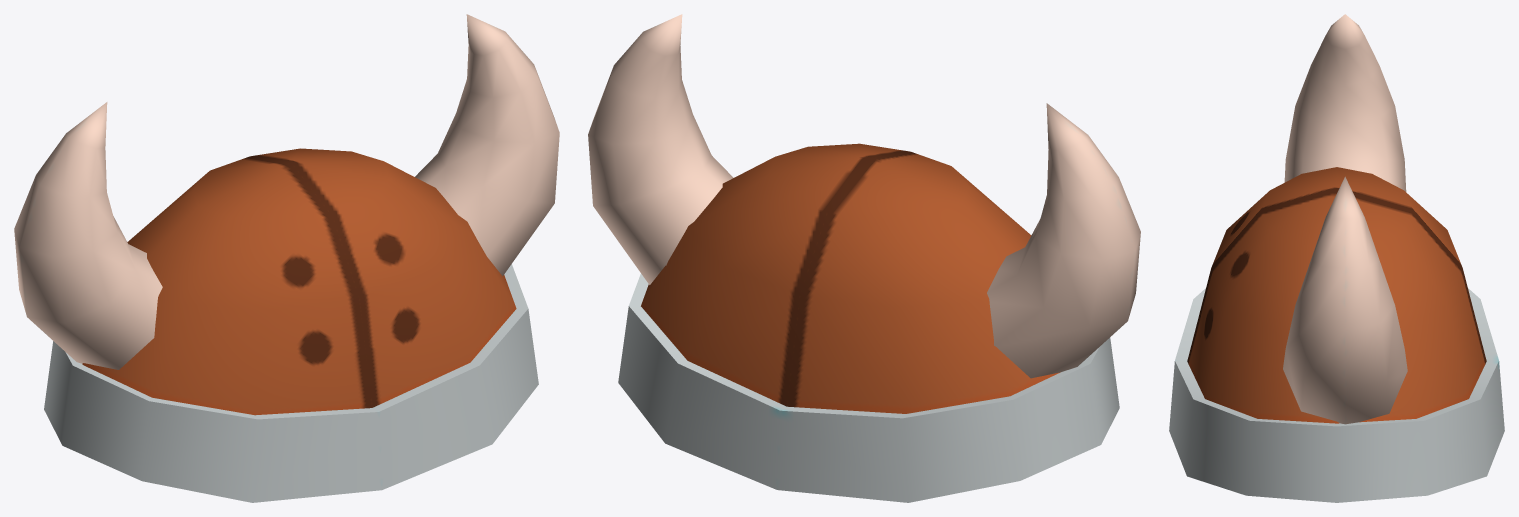
File: outfit04.fbx
The picture shows the model from 3 angles, left to right: view 1: azimuth 30°, elevation 25°; view 2: azimuth 150°, elevation 25°; view 3: azimuth 270°, elevation 25°; orthographic projection. The views are drawn at different scales.
Visible parts, largest first — view 1: huggy04 cap; view 2: huggy04 cap; view 3: huggy04 cap.
Boxes of the visible parts, bbox=[...] form: huggy04 cap: bbox=[14, 14, 559, 502]; huggy04 cap: bbox=[588, 14, 1140, 502]; huggy04 cap: bbox=[1169, 14, 1504, 502].
Size of the model in its own units: 0.474 by 0.3097 by 0.2784.
